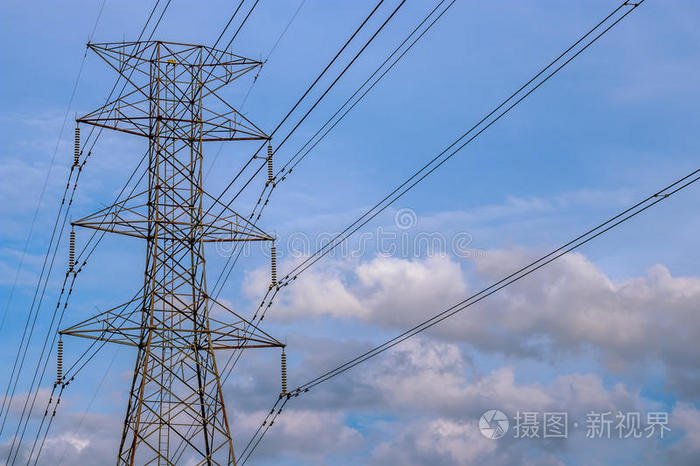insulator: (279, 352, 289, 392), (265, 146, 276, 181), (56, 339, 65, 379), (270, 244, 279, 284), (73, 128, 82, 161), (69, 230, 75, 268)
